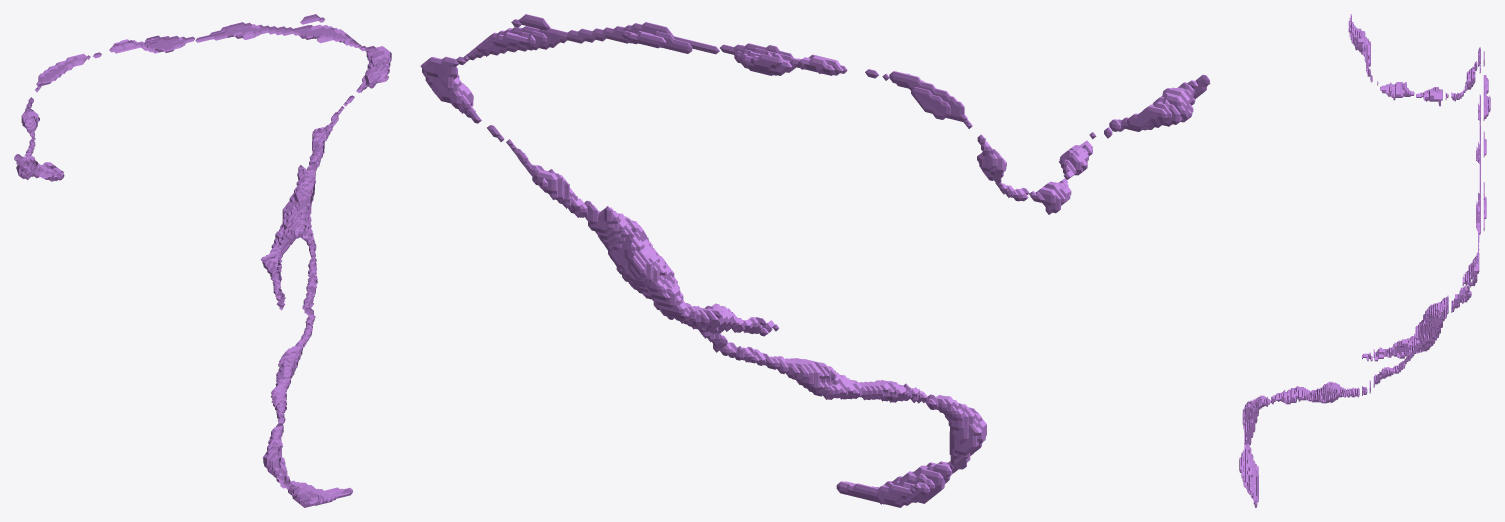
The model's file is SVV_SIBDR.gltf.
The picture shows the model from 3 angles, left to right: view 1: azimuth 30°, elevation 25°; view 2: azimuth 150°, elevation 25°; view 3: azimuth 270°, elevation 25°; orthographic projection. The views are drawn at different scales.
Parts seen in each view (by area): view 1: SIBDR; view 2: SIBDR; view 3: SIBDR.
Boxes of the visible parts, left/top/right/bottom form: SIBDR: left=14, top=14, right=391, bottom=507; SIBDR: left=420, top=14, right=1210, bottom=507; SIBDR: left=1239, top=14, right=1490, bottom=507.
Bounding box in the file's own units: 99379 × 84523 × 50831.
